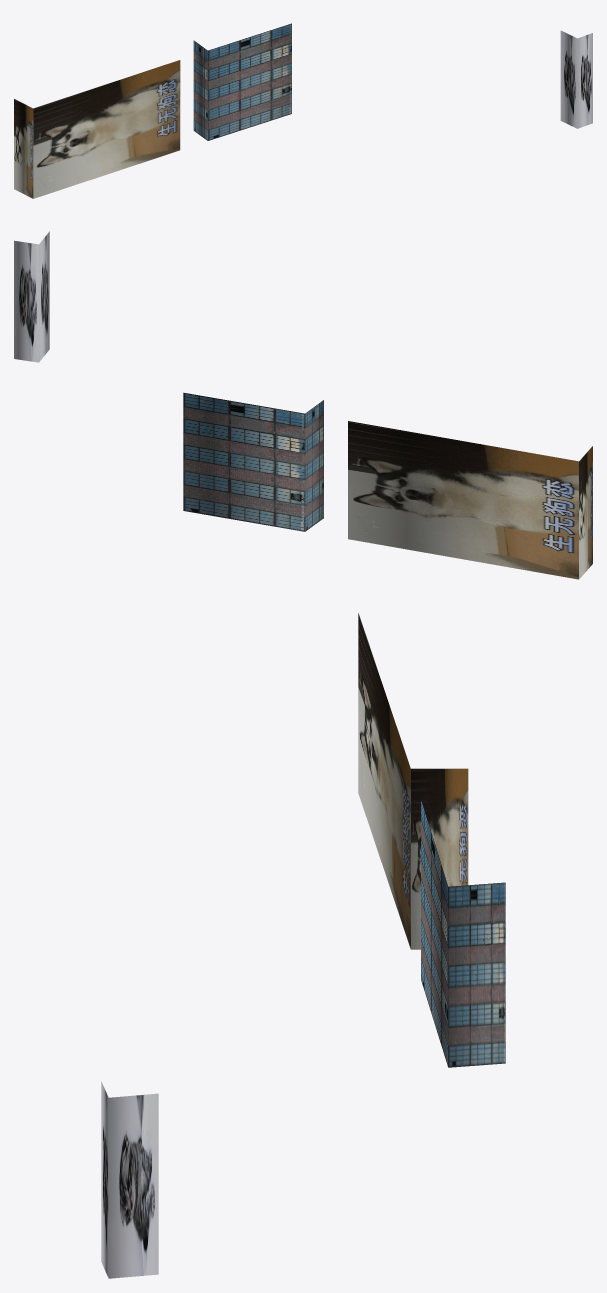
3 renders of one model, top to bottom at view 1: azimuth 30°, elevation 25°; view 2: azimuth 150°, elevation 25°; view 3: azimuth 270°, elevation 25°, orthographic. The views are drawn at different scales.
Parts seen in each view (by area): view 1: Polyline3, Polyline2, Polyline4; view 2: Polyline3, Polyline2, Polyline4; view 3: Polyline3, Polyline2, Polyline4.
Part boxes in pixels (bbox=[...]): Polyline3: bbox=[14, 60, 180, 198]; Polyline2: bbox=[193, 23, 291, 140]; Polyline4: bbox=[560, 30, 592, 128]; Polyline3: bbox=[348, 421, 592, 579]; Polyline2: bbox=[183, 392, 323, 531]; Polyline4: bbox=[14, 231, 49, 362]; Polyline3: bbox=[358, 613, 468, 949]; Polyline2: bbox=[421, 799, 505, 1067]; Polyline4: bbox=[101, 1081, 158, 1278].
Size of the model in its own units: 116 by 20 by 40.5.
3 materials, 3 textured.
